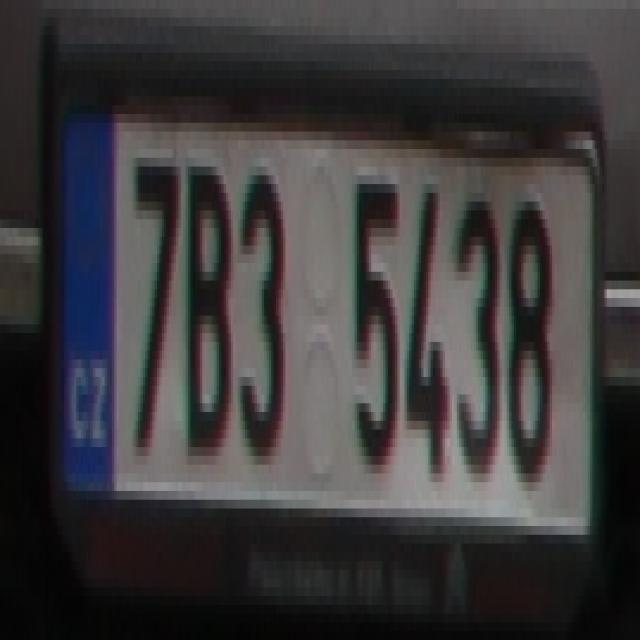3: (233, 158, 283, 447), (452, 184, 497, 474)
4: (407, 184, 450, 474)
5: (350, 166, 400, 464)
7: (131, 149, 181, 456)
8: (504, 193, 557, 491)
B: (186, 158, 230, 447)
